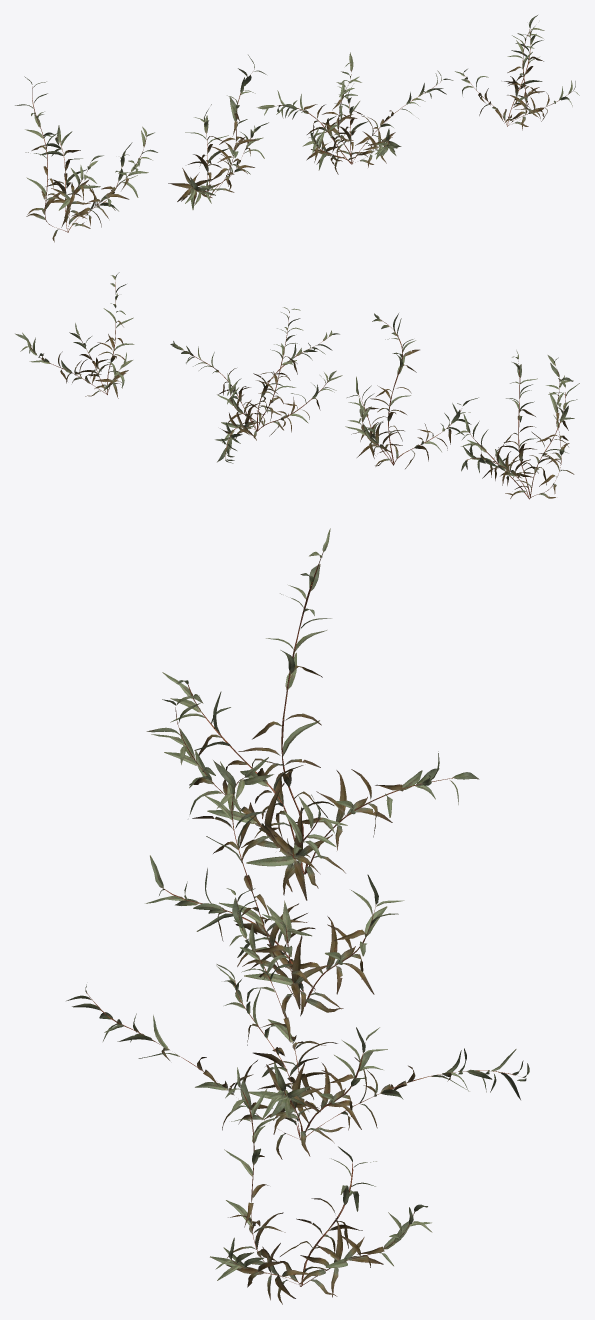
File: shrub_02.glb
3 views of the same model, one above another, from view 1: azimuth 30°, elevation 25°; view 2: azimuth 150°, elevation 25°; view 3: azimuth 270°, elevation 25° (orthographic). The views are drawn at different scales.
Parts seen in each view (by area): view 1: shrub_02_c, shrub_02_a, shrub_02_b, shrub_02_d; view 2: shrub_02_a, shrub_02_c, shrub_02_b, shrub_02_d; view 3: shrub_02_a, shrub_02_c, shrub_02_b, shrub_02_d.
Boxes of the visible parts, x1=… form: shrub_02_c: x1=257, y1=52, x2=453, y2=174; shrub_02_a: x1=15, y1=76, x2=157, y2=242; shrub_02_b: x1=168, y1=55, x2=268, y2=209; shrub_02_d: x1=455, y1=15, x2=579, y2=130; shrub_02_a: x1=455, y1=350, x2=579, y2=499; shrub_02_c: x1=170, y1=307, x2=342, y2=463; shrub_02_b: x1=345, y1=313, x2=478, y2=468; shrub_02_d: x1=15, y1=272, x2=134, y2=398; shrub_02_a: x1=146, y1=528, x2=479, y2=900; shrub_02_c: x1=66, y1=888, x2=529, y2=1159; shrub_02_b: x1=145, y1=757, x2=404, y2=1017; shrub_02_d: x1=210, y1=1067, x2=432, y2=1304.
Size of the model in its own units: 6.05 by 1.7 by 2.29.
Materials: 1 (1 with a texture image).
